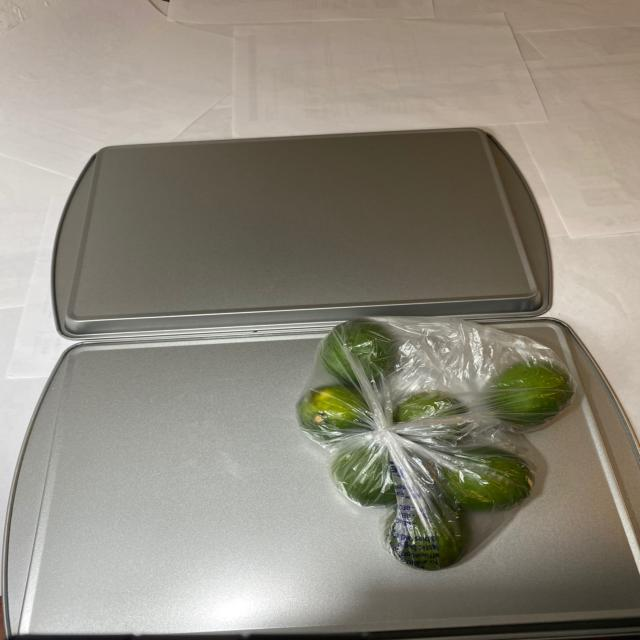lemon: (292, 317, 575, 563)
